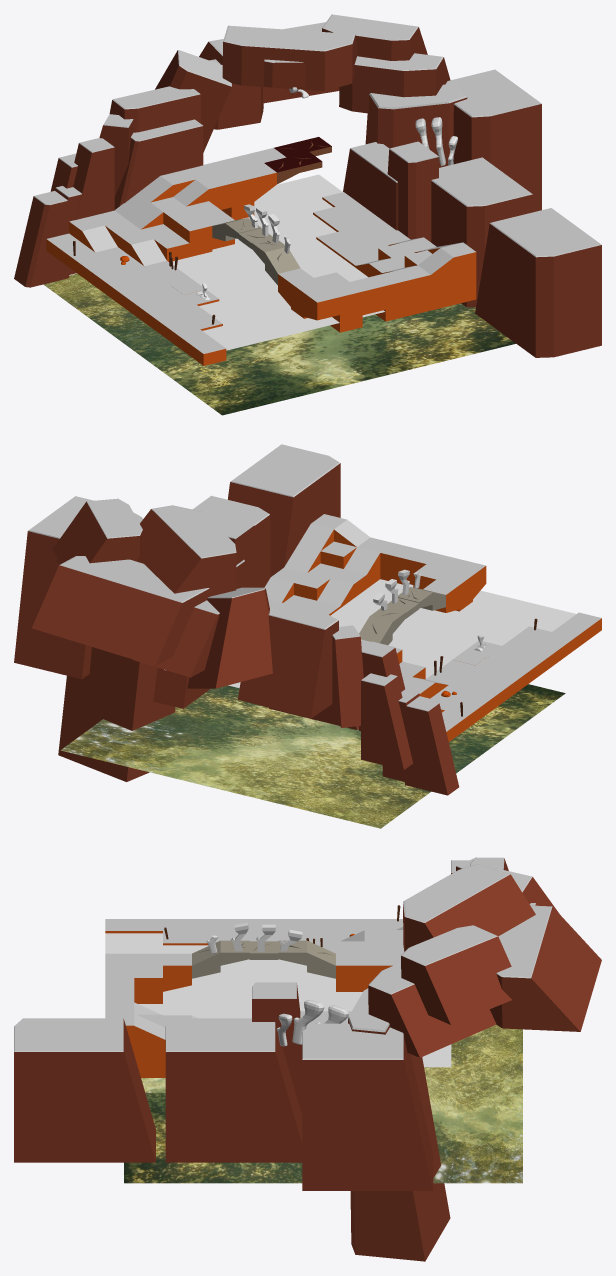
3 views of the same model, one above another, from view 1: azimuth 30°, elevation 25°; view 2: azimuth 150°, elevation 25°; view 3: azimuth 270°, elevation 25° (orthographic). The views are drawn at different scales.
Visible parts, largest first — view 1: Background.001, 平面.003, 平面.002, DecorBones1.001, 立方体.138, 立方体.241, 立方体.315, DecorBones4.001, 立方体.193, 立方体.183, 立方体.195, 立方体.325 (+12 smaller); view 2: Background.001, 平面.003, 平面.002, 立方体.311, 立方体.308, 立方体.313, 立方体.276, 立方体.301, 立方体.309, DecorBones4.001, 立方体.324, 立方体.310 (+3 smaller); view 3: Background.001, 平面.003, 平面.002, DecorBones1.001, DecorBones4.001, 立方体.242, 立方体.267, 立方体.268, 立方体.243, 立方体.323, 立方体.324, 立方体.309 (+1 smaller).
Part boxes in pixels (x1,y1,x2,y2): Background.001: (14,14,601,357); 平面.003: (43,273,515,415); 平面.002: (172,174,384,350); DecorBones1.001: (415,117,457,165); 立方体.138: (190,339,226,365); 立方体.241: (176,216,212,242); 立方体.315: (304,287,339,314); DecorBones4.001: (243,204,290,253); 立方体.193: (131,239,166,266); 立方体.183: (82,225,117,252); 立方体.195: (154,233,189,260); 立方体.325: (265,247,300,273); Background.001: (14,444,459,795); 平面.003: (60,684,565,828); 平面.002: (164,579,576,688); 立方体.311: (344,547,380,574); 立方体.308: (320,541,356,568); 立方体.313: (317,579,353,606); 立方体.276: (284,545,320,572); 立方体.301: (294,573,329,600); 立方体.309: (297,524,333,551); DecorBones4.001: (373,569,420,610); 立方体.324: (359,616,392,643); 立方体.310: (334,519,370,546); Background.001: (14,857,601,1261); 平面.003: (124,1024,522,1183); 平面.002: (105,933,451,1067); DecorBones1.001: (276,1000,348,1046); DecorBones4.001: (206,922,302,953); 立方体.242: (336,953,364,978); 立方体.267: (163,953,191,978); 立方体.268: (134,965,162,990); 立方体.243: (364,953,393,978); 立方体.323: (220,940,249,965); 立方体.324: (307,940,335,965); 立方体.309: (134,1014,162,1038).
Size of the model in its own units: 1968 by 1119 by 2040.
